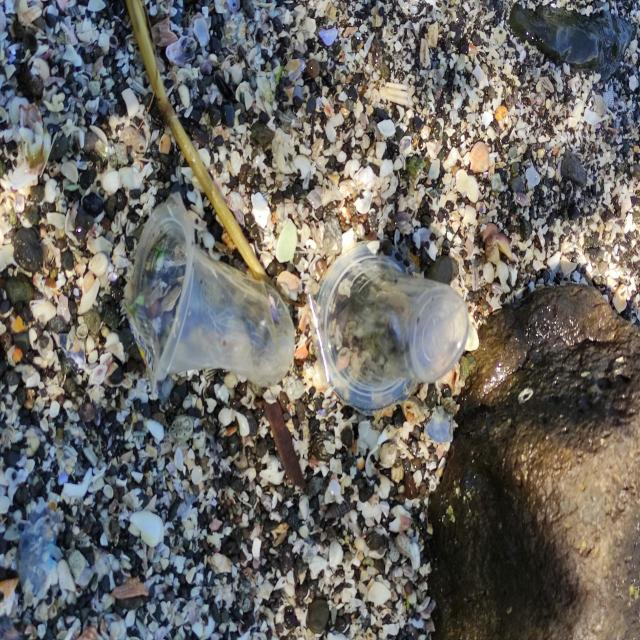plastic_waste: (121, 194, 295, 386), (311, 249, 471, 420)
